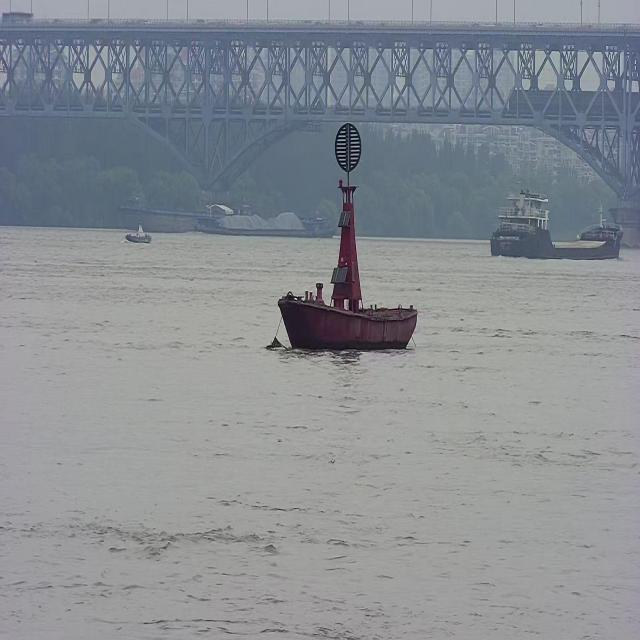CIV_Ship: (262, 111, 426, 360), (120, 222, 154, 249)
